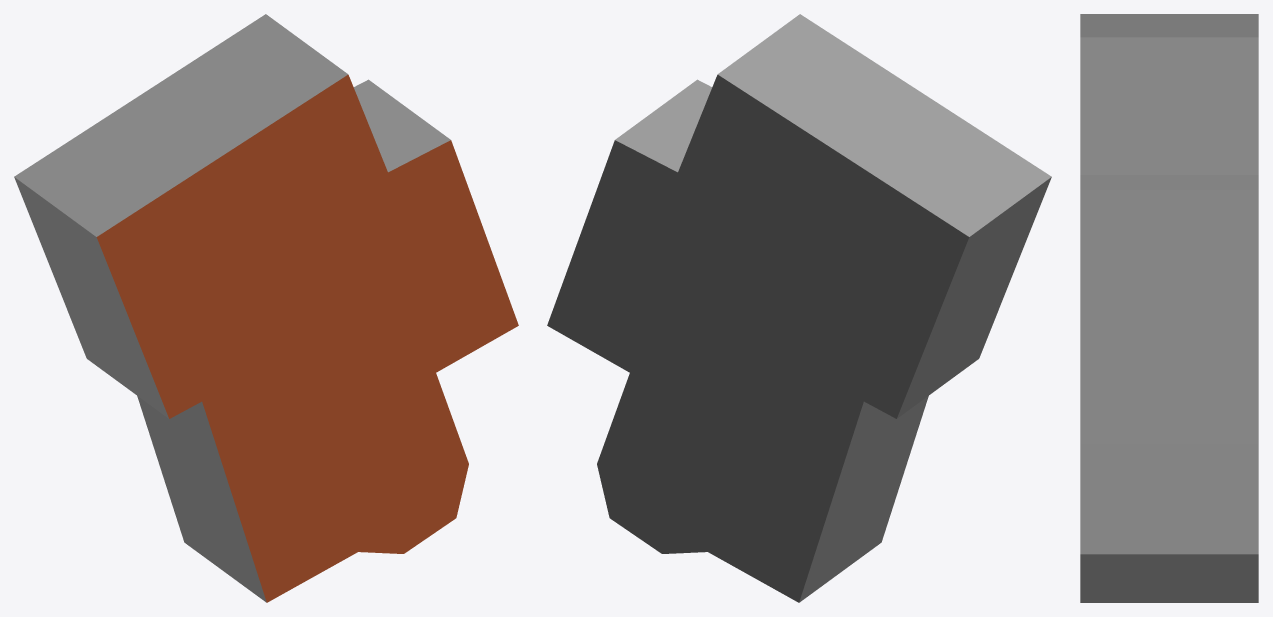
The model's file is construction_1380_assumed_A_Casa_h6m.obj.
3 renders of one model, left to right at view 1: azimuth 30°, elevation 25°; view 2: azimuth 150°, elevation 25°; view 3: azimuth 270°, elevation 25°, orthographic. The views are drawn at different scales.
Visible parts, largest first — view 1: construction_1380_assumed_A_Casa; view 2: construction_1380_assumed_A_Casa; view 3: construction_1380_assumed_A_Casa.
Boxes of the visible parts, <box> form: construction_1380_assumed_A_Casa: <box>14,14,518,602</box>; construction_1380_assumed_A_Casa: <box>547,14,1051,602</box>; construction_1380_assumed_A_Casa: <box>1080,14,1258,602</box>.
Bounding box in the file's own units: 17.72 × 20.4 × 6.
